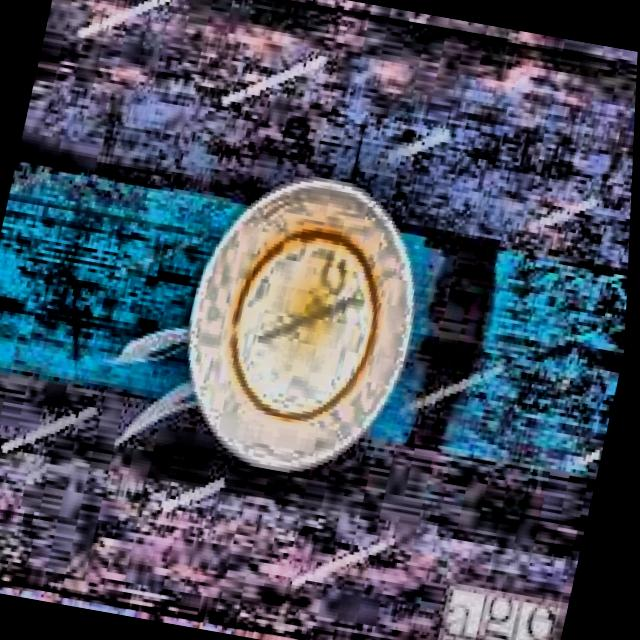Cup: (152, 155, 452, 503)
